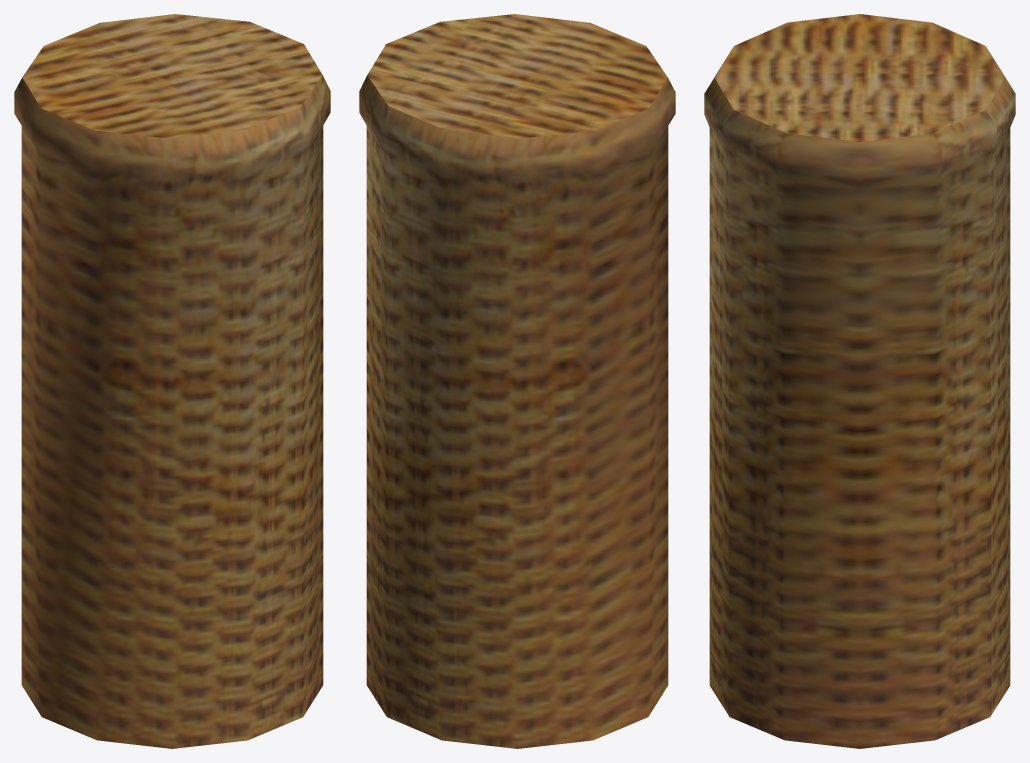
Rendered from basket1.obj.
3 renders of one model, left to right at view 1: azimuth 30°, elevation 25°; view 2: azimuth 150°, elevation 25°; view 3: azimuth 270°, elevation 25°, orthographic.
Parts seen in each view (by area): view 1: Regroup02; view 2: Regroup02; view 3: Regroup02.
Boxes of the visible parts, x1=… form: Regroup02: x1=14, y1=14, x2=330, y2=748; Regroup02: x1=359, y1=14, x2=675, y2=748; Regroup02: x1=704, y1=14, x2=1015, y2=748.
Bounding box in the file's own units: 22.91 × 48.41 × 22.48.
1 material, 1 textured.
